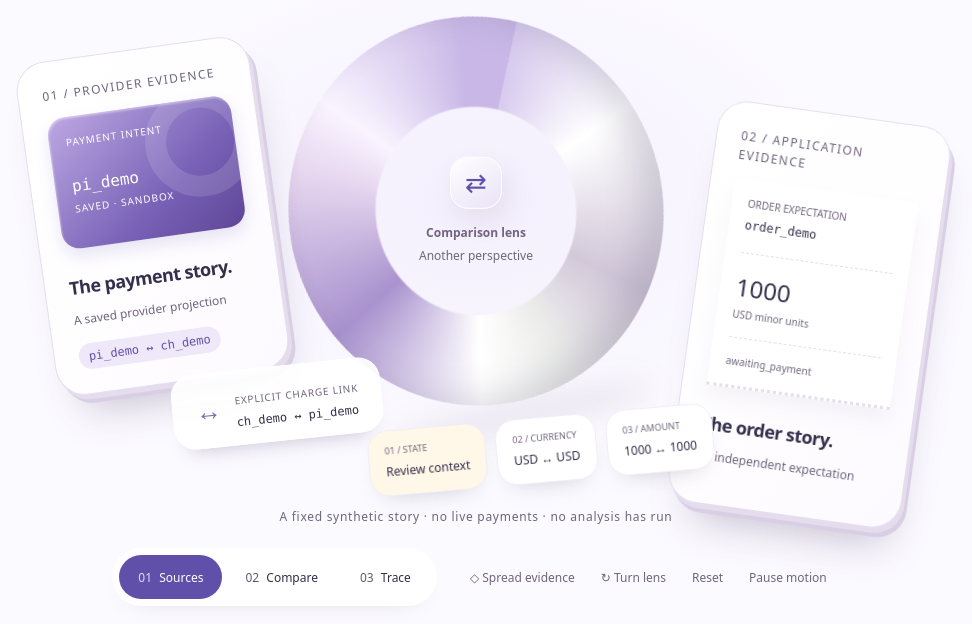
native synthetic shell › honors live OS reduced-motion changes and cleans up the listener
The width and height of the screenshot is (972, 624).
Click the button "Pause motion" at (788, 577), box [736, 555, 840, 599]
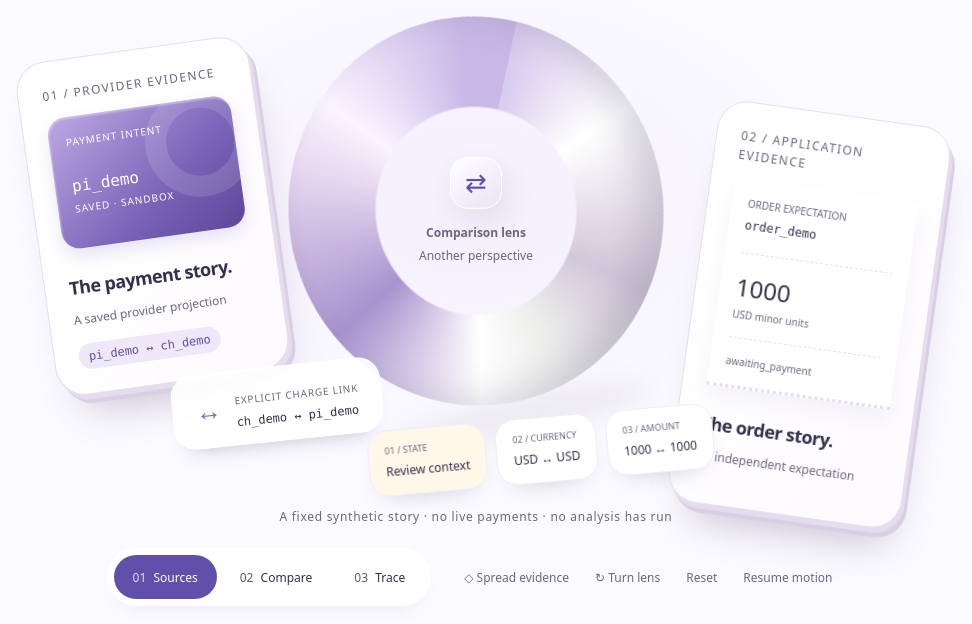
Click the button "Resume motion" at (788, 577), box [730, 555, 845, 599]
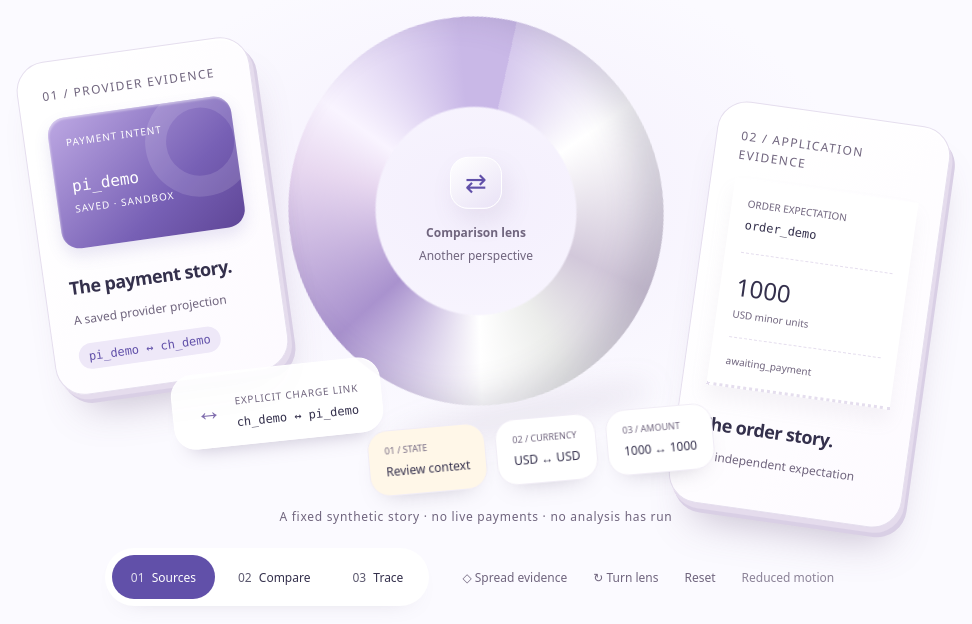
expect the button "Reduced motion" is disabled: met, box [729, 555, 847, 599]
